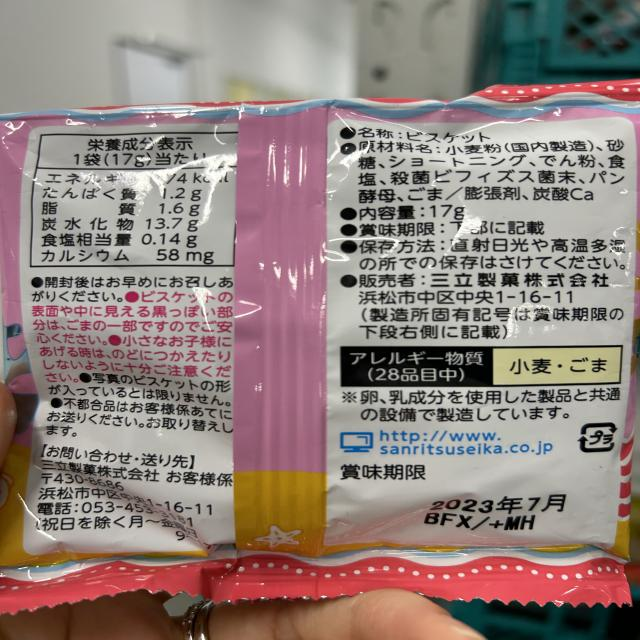object_name: (4, 119, 629, 605)
